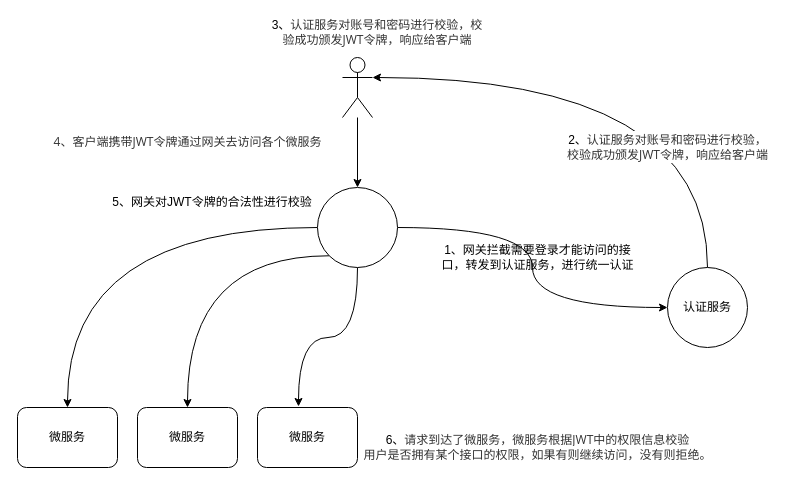
This 795x485 diagram has some shape labels left out. The shapes that lost their labels are listed below. From the top down, each one's centre as x and y in pixels, then its label:
At point (357, 87): "用户".
At point (357, 227): "网关".
